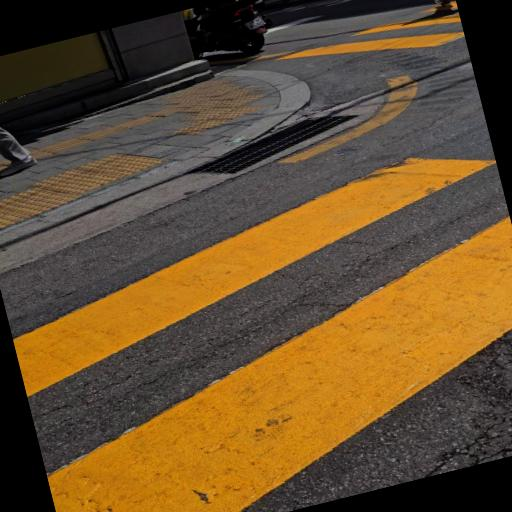yellow-crosswalk: (1, 130, 512, 512), (258, 0, 468, 97)
